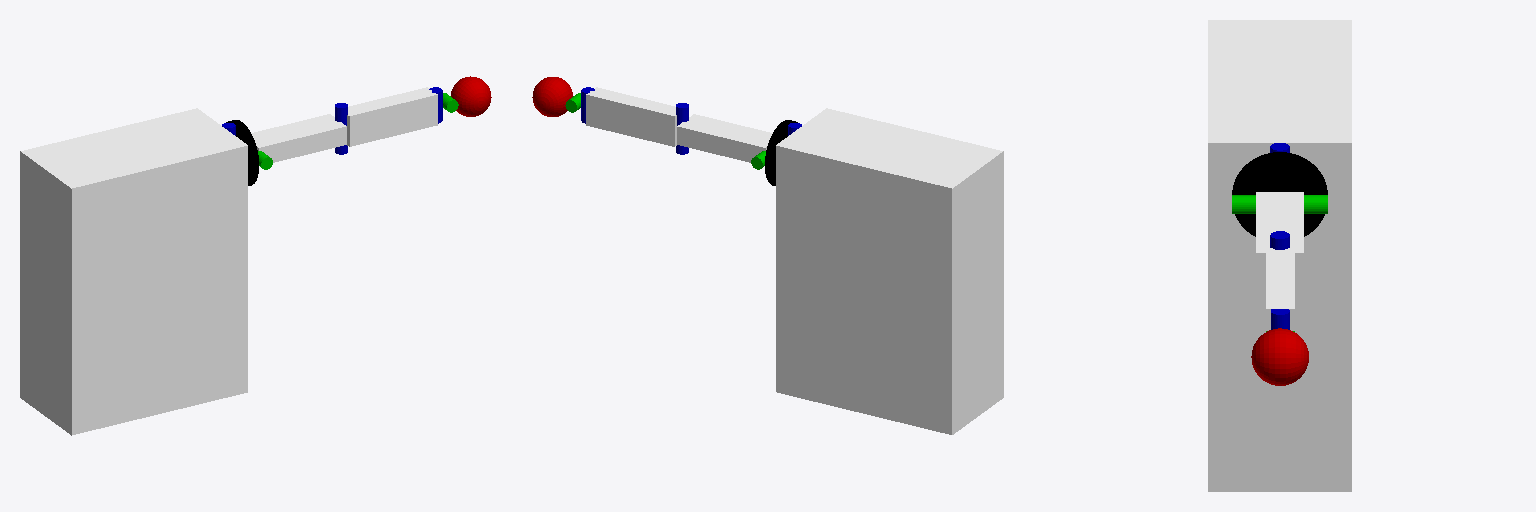
The robot description file, URDF, robot "Custom_Upper_Body":
<?xml version="1.0" encoding="utf-8"?>
<robot name="Custom_Upper_Body">


	  <material name="blue">
	    	<color rgba="0 0 0.8 1"/>
	  </material>
	  <material name="black">
	    	<color rgba="0 0 0 1"/>
	  </material>
	  <material name="white">
	    	<color rgba="1 1 1 1"/>
	  </material>
  	<material name="red">
    		<color rgba="0.8 0 0 1"/>
  	</material>
  	<material name="green">
    		<color rgba="0 0.8 0 1"/>
  	</material>
  	
  	
	<link name="base">
		<mass value="0.3"/>
		<inertial>
			<origin xyz="0 0 0" rpy="0 0 0"></origin>
			<mass value="0.3"></mass>
			<inertia ixx="0.000444379589701896" ixy="0" ixz="0" iyy="0.00048561348802354" iyz="0" izz="0.000421911604661064"></inertia>
		</inertial>
		<visual>
			<origin xyz="0 0 0" rpy="0 0 0"></origin>
			<geometry>
				<box size="0.3 0.15 0.4"/>
			</geometry>
			<material name="white"/>
		</visual>
		<collision>
			<origin xyz="0 0 0" rpy="0 0 0"></origin>
			<geometry>
				<box size="0.3 0.15 0.4"/>
			</geometry>
		</collision>
	</link>
	
	<joint name="base_to_r_shoulder_yaw" type="revolute">
	    <parent link="base"/>
	    <child link="r_shoulder_yaw"/>
	    <origin xyz="0.16 0. 0.15" rpy="0 0 0"/>
	    <axis xyz="0 0 1"></axis>
	    <limit effort="3.1" lower="-1.57" upper="1.57" velocity="7.0"></limit>
  	</joint>
	
	<link name="r_shoulder_yaw">
		<inertial>
			<origin xyz="0 0 0" rpy="0 0 0"></origin>
			<mass value="0.1"></mass>
			<inertia ixx="0.000444379589701896" ixy="0" ixz="0" iyy="0.00048561348802354" iyz="0" izz="0.000421911604661064"></inertia>
		</inertial>
		<visual>
			<origin xyz="0 0 0" rpy="0 0 0"></origin>
			<geometry>
				<cylinder length="0.1" radius="0.01"/>
			</geometry>
			<material name="blue"/>
		</visual>
		<collision>
			<origin xyz="0 0 0" rpy="0 0 0"></origin>
			<geometry>
				<cylinder length="0.1" radius="0.01"/>
			</geometry>
		</collision>
	</link>
	
	<joint name="r_shoulder_yaw_to_shoulder_roll" type="revolute">
	    <parent link="r_shoulder_yaw"/>
	    <child link="r_shoulder_roll"/>
	    <origin xyz="0.018 0 0" rpy="0 1.57 0"/>
	    <axis xyz="0 0 1"></axis>
	    <limit effort="3.1" lower="-1.57" upper="1.57" velocity="7.0"></limit>
  	</joint>
	
	<link name="r_shoulder_roll">
		<inertial>
			<origin xyz="0 0 0" rpy="0 0 0"></origin>
			<mass value="0.1"></mass>
			<inertia ixx="0.000444379589701896" ixy="0" ixz="0" iyy="0.00048561348802354" iyz="0" izz="0.000421911604661064"></inertia>
		</inertial>
		<visual>
			<origin xyz="0 0 0" rpy="0 0 0"></origin>
			<geometry>
				<cylinder length="0.01" radius="0.05"/>
			</geometry>
			<material name="black"/>
		</visual>
		<collision>
			<origin xyz="0 0 0" rpy="0 0 0"></origin>
			<geometry>
				<cylinder length="0.01" radius="0.05"/>
			</geometry>
		</collision>
	</link>
	
	<joint name="r_shoulder_roll_to_shoulder_pitch" type="revolute">
	    <parent link="r_shoulder_roll"/>
	    <child link="r_shoulder_pitch"/>
	    <origin xyz="0 0 0.018" rpy="1.57 0 0"/>
	    <axis xyz="0 0 1"></axis>
	    <limit effort="3.1" lower="-1.57" upper="1.57" velocity="7.0"></limit>
  	</joint>
	
	<link name="r_shoulder_pitch">
		<inertial>
			<origin xyz="0 0 0" rpy="0 0 0"></origin>
			<mass value="0.1"></mass>
			<inertia ixx="0.000444379589701896" ixy="0" ixz="0" iyy="0.00048561348802354" iyz="0" izz="0.000421911604661064"></inertia>
		</inertial>
		<visual>
			<origin xyz="0 0 0" rpy="0 0 0"></origin>
			<geometry>
				<cylinder length="0.1" radius="0.01"/>
			</geometry>
			<material name="green"/>
		</visual>
		<collision>
			<origin xyz="0 0 0" rpy="0 0 0"></origin>
			<geometry>
				<cylinder length="0.1" radius="0.01"/>
			</geometry>
		</collision>
	</link>
	
	<joint name="r_shoulder_pitch_to_upper_arm" type="fixed">
	    <parent link="r_shoulder_pitch"/>
	    <child link="r_upper_arm"/>
	    <origin xyz="0 0.075 0" rpy="0 0 0"/>
	    <axis xyz="0 0 1"></axis>
  	</joint>
	
	<link name="r_upper_arm">
		<inertial>
			<origin xyz="0 0 0" rpy="0 0 0"></origin>
			<mass value="0.1"></mass>
			<inertia ixx="0.000444379589701896" ixy="0" ixz="0" iyy="0.00048561348802354" iyz="0" izz="0.000421911604661064"></inertia>
		</inertial>
		<visual>
			<origin xyz="0 0 0" rpy="0 0 0"></origin>
			<geometry>
				<box size="0.03 0.15 0.05"/>
			</geometry>
			<material name="white"/>
		</visual>
		<collision>
			<origin xyz="0 0 0" rpy="0 0 0"></origin>
			<geometry>
				<box size="0.03 0.1 0.05"/>
			</geometry>
		</collision>
	</link>
	
	<joint name="r_upper_arm_to_elbow" type="revolute">
	    <parent link="r_upper_arm"/>
	    <child link="r_elbow"/>
	    <origin xyz="0 0.08 0" rpy="0 -1.57 0"/>
	    <axis xyz="0 0 1"></axis>
	    <limit effort="3.1" lower="0" upper="2.8" velocity="7.0"></limit>
  	</joint>
	
	<link name="r_elbow">
		<inertial>
			<origin xyz="0 0 0" rpy="0 0 0"></origin>
			<mass value="0.1"></mass>
			<inertia ixx="0.000444379589701896" ixy="0" ixz="0" iyy="0.00048561348802354" iyz="0" izz="0.000421911604661064"></inertia>
		</inertial>
		<visual>
			<origin xyz="0 0 0" rpy="0 0 0"></origin>
			<geometry>
				<cylinder length="0.075" radius="0.01"/>
			</geometry>
			<material name="blue"/>
		</visual>
		<collision>
			<origin xyz="0 0 0" rpy="0 0 0"></origin>
			<geometry>
				<cylinder length="0.075" radius="0.01"/>
			</geometry>
		</collision>
	</link>
	
	<joint name="r_elbow_to_forearm" type="fixed">
	    <parent link="r_elbow"/>
	    <child link="r_forearm"/>
	    <origin xyz="0 0.08 0" rpy="0 0 0"/>
	    <axis xyz="0 0 1"></axis>
  	</joint>
	
	<link name="r_forearm">
		<inertial>
			<origin xyz="0 0 0" rpy="0 0 0"></origin>
			<mass value="0.1"></mass>
			<inertia ixx="0.000444379589701896" ixy="0" ixz="0" iyy="0.00048561348802354" iyz="0" izz="0.000421911604661064"></inertia>
		</inertial>
		<visual>
			<origin xyz="0 0 0" rpy="0 0 0"></origin>
			<geometry>
				<box size="0.03 0.15 0.05"/>
			</geometry>
			<material name="white"/>
		</visual>
		<collision>
			<origin xyz="0 0 0" rpy="0 0 0"></origin>
			<geometry>
				<box size="0.03 0.1 0.05"/>
			</geometry>
		</collision>
	</link>
	
	<joint name="r_forearm_to_wrist_1" type="revolute">
	    <parent link="r_forearm"/>
	    <child link="r_wrist_1"/>
	    <origin xyz="0 0.08 0" rpy="0 0 0"/>
	    <axis xyz="0 0 1"></axis>
	    <limit effort="3.1" lower="-1.57" upper="1.57" velocity="7.0"></limit>
  	</joint>
	
	<link name="r_wrist_1">
		<inertial>
			<origin xyz="0 0 0" rpy="0 0 0"></origin>
			<mass value="0.1"></mass>
			<inertia ixx="0.000444379589701896" ixy="0" ixz="0" iyy="0.00048561348802354" iyz="0" izz="0.000421911604661064"></inertia>
		</inertial>
		<visual>
			<origin xyz="0 0 0" rpy="0 0 0"></origin>
			<geometry>
				<cylinder length="0.05" radius="0.01"/>
			</geometry>
			<material name="blue"/>
		</visual>
		<collision>
			<origin xyz="0 0 0" rpy="0 0 0"></origin>
			<geometry>
				<cylinder length="0.05" radius="0.01"/>
			</geometry>
		</collision>
	</link>
	
	<joint name="r_wrist_1_to_wrist_2" type="revolute">
	    <parent link="r_wrist_1"/>
	    <child link="r_wrist_2"/>
	    <origin xyz="0 0.02 0" rpy="0 1.57 0"/>
	    <axis xyz="0 0 1"></axis>
	    <limit effort="3.1" lower="-1.57" upper="1.57" velocity="7.0"></limit>
  	</joint>
	
	<link name="r_wrist_2">
		<inertial>
			<origin xyz="0 0 0" rpy="0 0 0"></origin>
			<mass value="0.1"></mass>
			<inertia ixx="0.000444379589701896" ixy="0" ixz="0" iyy="0.00048561348802354" iyz="0" izz="0.000421911604661064"></inertia>
		</inertial>
		<visual>
			<origin xyz="0 0 0" rpy="0 0 0"></origin>
			<geometry>
				<cylinder length="0.03" radius="0.01"/>
			</geometry>
			<material name="green"/>
		</visual>
		<collision>
			<origin xyz="0 0 0" rpy="0 0 0"></origin>
			<geometry>
				<cylinder length="0.03" radius="0.01"/>
			</geometry>
		</collision>
	</link>
	
	<joint name="r_wrist_2_to_hand" type="fixed">
	    <parent link="r_wrist_2"/>
	    <child link="r_hand"/>
	    <origin xyz="0 0.04 0" rpy="0 0 0"/>
	    <axis xyz="0 0 1"></axis>
  	</joint>
	
	<link name="r_hand">
		<inertial>
			<origin xyz="0 0 0" rpy="0 0 0"></origin>
			<mass value="0.1"></mass>
			<inertia ixx="0.000444379589701896" ixy="0" ixz="0" iyy="0.00048561348802354" iyz="0" izz="0.000421911604661064"></inertia>
		</inertial>
		<visual>
			<origin xyz="0 0 0" rpy="0 0 0"></origin>
			<geometry>
				<sphere radius="0.03"/>
			</geometry>
			<material name="red"/>
		</visual>
		<collision>
			<origin xyz="0 0 0" rpy="0 0 0"></origin>
			<geometry>
				<sphere radius="0.03"/>
			</geometry>
		</collision>
	</link>
	
	<joint name="r_end_effector" type="fixed">
	    <parent link="r_hand"/>
	    <child link="r_ee_link"/>
	    <origin xyz="0 0 0" rpy="0 0 0"/>
	    <axis xyz="0 0 1"></axis>
  	</joint>
  	
  	<link name="r_ee_link">
        <inertial>
          <mass value="0.001" />
          <inertia ixx="0.0001" iyy="0.0001" izz="0.0001" ixy="0" ixz="0" iyz="0" />
        </inertial>
      </link>
	
	
	
	
	
	
</robot>

--- What the picture shows (computed from the rendered views, not written in the file) ---
Views: 3 orthographic renders of the robot side by side, from view 1: azimuth 30°, elevation 25°; view 2: azimuth 150°, elevation 25°; view 3: azimuth 270°, elevation 25°.
Robot: Custom_Upper_Body — 11 links, 10 joints (6 revolute, 4 fixed); root link base; default pose: every joint at zero.
Links seen in each view (by area): view 1: base, r_forearm, r_upper_arm, r_hand, r_shoulder_roll; view 2: base, r_forearm, r_upper_arm, r_hand, r_shoulder_roll; view 3: base, r_shoulder_roll, r_upper_arm, r_hand, r_forearm, r_shoulder_pitch.
Boxes of the visible links, x1,y1,x2,y2 form: base: (20, 108, 247, 435); r_forearm: (347, 87, 437, 146); r_upper_arm: (251, 114, 346, 162); r_hand: (451, 76, 491, 116); r_shoulder_roll: (226, 120, 258, 185); base: (776, 108, 1003, 434); r_forearm: (586, 87, 676, 146); r_upper_arm: (677, 114, 772, 162); r_hand: (532, 77, 572, 116); r_shoulder_roll: (765, 120, 797, 185); base: (1208, 20, 1351, 491); r_shoulder_roll: (1232, 152, 1327, 236); r_upper_arm: (1256, 192, 1303, 278); r_hand: (1251, 328, 1308, 385); r_forearm: (1266, 248, 1294, 330); r_shoulder_pitch: (1232, 195, 1327, 213).
Bounding box of the posed robot: 0.751 × 0.15 × 0.4 m (x, y, z).
Geometry: primitives only (box / cylinder / sphere), no mesh files.